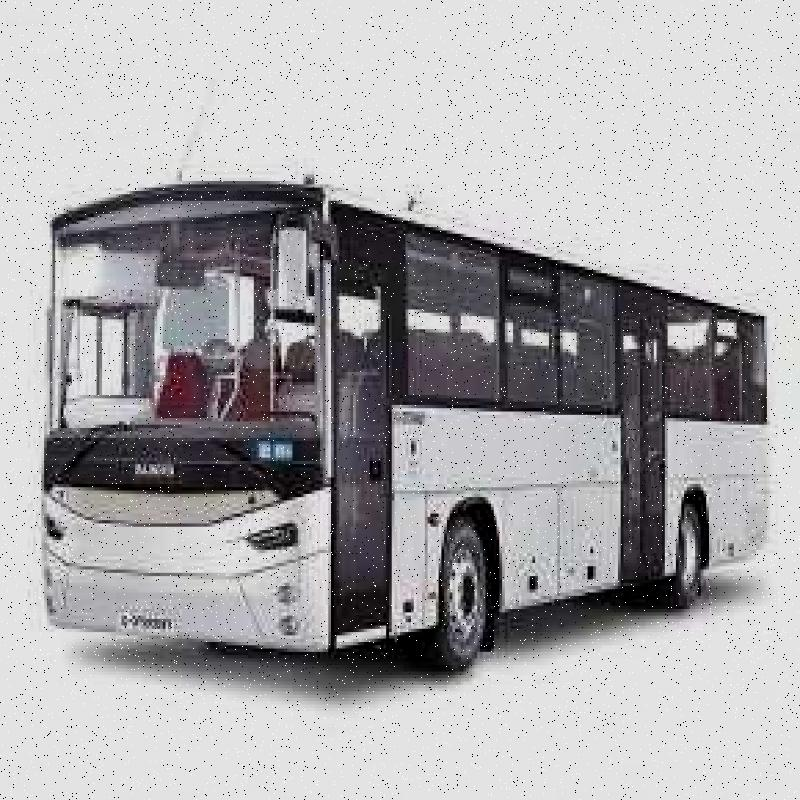bus: (0, 144, 761, 727)
